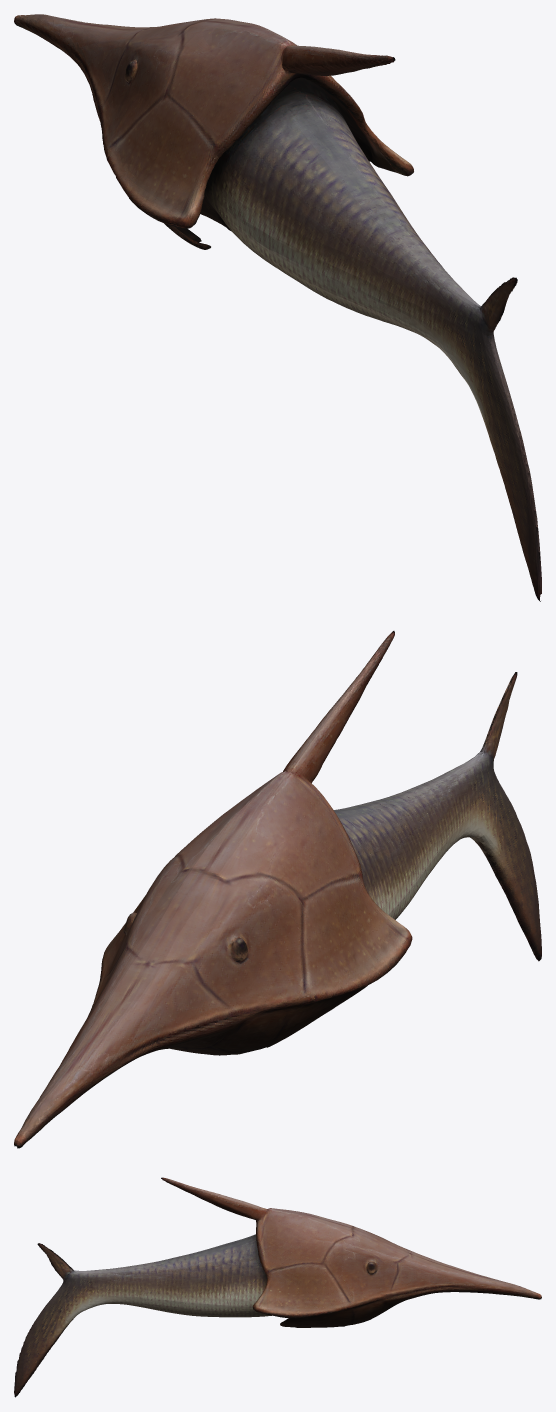
3 views of the same model, one above another, from view 1: azimuth 30°, elevation 25°; view 2: azimuth 150°, elevation 25°; view 3: azimuth 270°, elevation 25° (orthographic). The views are drawn at different scales.
Visible parts, largest first — view 1: world; view 2: world; view 3: world.
Boxes of the visible parts, x1=… form: world: x1=14, y1=14, x2=541, y2=601; world: x1=14, y1=631, x2=541, y2=1148; world: x1=14, y1=1177, x2=541, y2=1397.
Size of the model in its own units: 0.2652 by 0.4606 by 1.
1 material, 1 textured.
